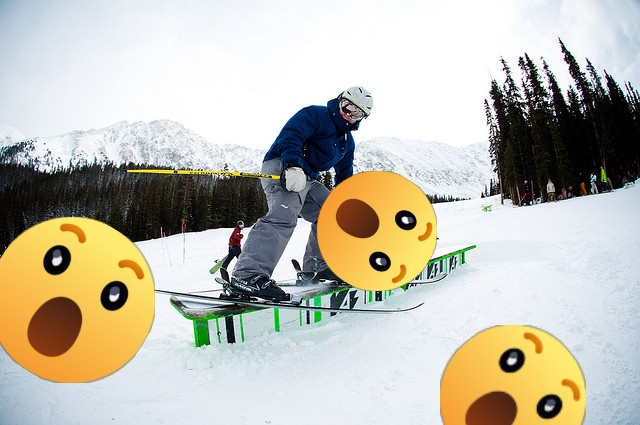wow: (0, 217, 155, 383), (440, 325, 586, 425), (317, 171, 437, 291)
